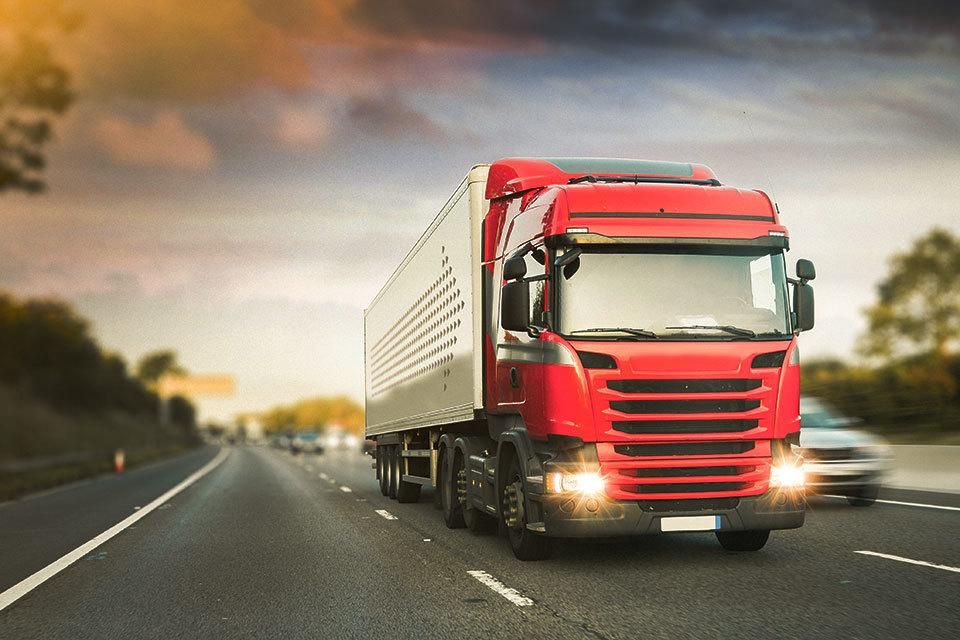truck: (363, 157, 816, 560)
